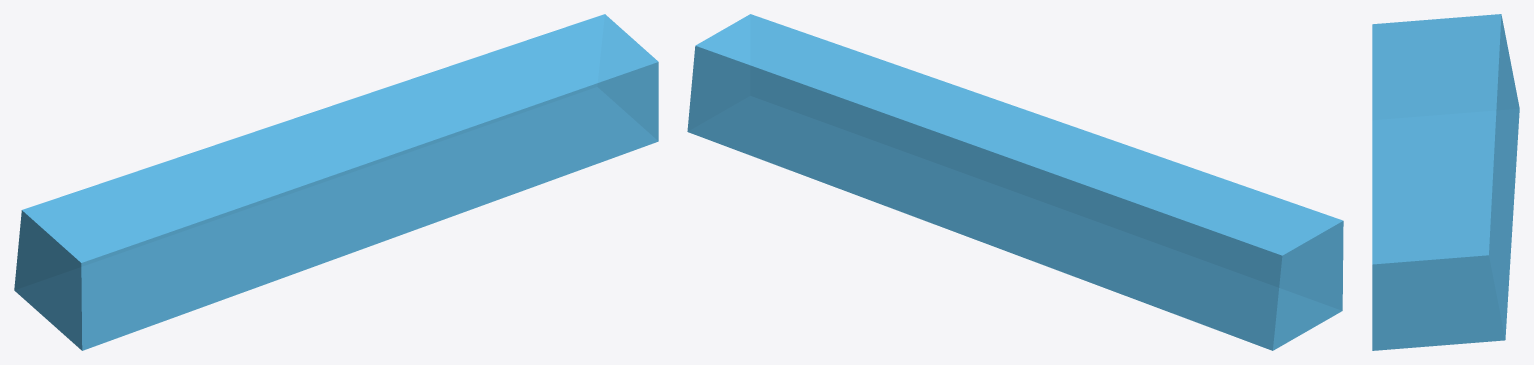
File: Event_421278790_HErechit_7.fbx
3 views of the same model, side by side, from view 1: azimuth 30°, elevation 25°; view 2: azimuth 150°, elevation 25°; view 3: azimuth 270°, elevation 25° (orthographic). The views are drawn at different scales.
Visible parts, largest first — view 1: Model; view 2: Model; view 3: Model.
Boxes of the visible parts, x1=… form: Model: x1=14, y1=14, x2=658, y2=350; Model: x1=687, y1=14, x2=1343, y2=350; Model: x1=1372, y1=14, x2=1519, y2=350.
Bounding box in the file's own units: 1.09 × 0.284 × 0.223.
